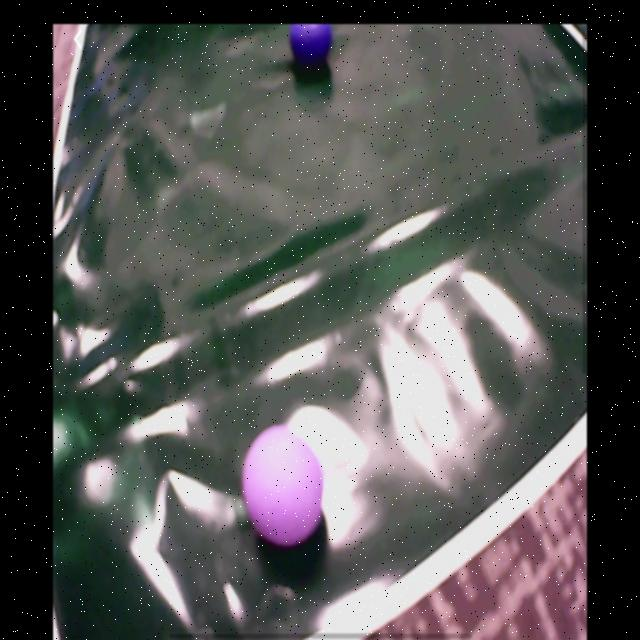ball: (244, 426, 323, 543), (289, 26, 334, 65)
